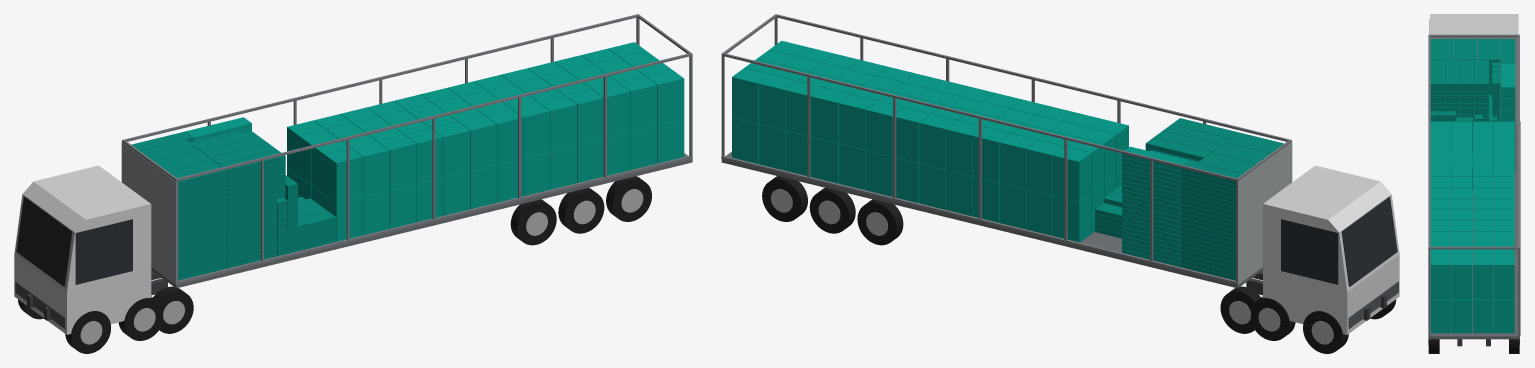
Rendered from carreta-FD04.glb.
The picture shows the model from 3 angles, left to right: view 1: azimuth 30°, elevation 25°; view 2: azimuth 150°, elevation 25°; view 3: azimuth 270°, elevation 25°; orthographic projection. The views are drawn at different scales.
Parts seen in each view (by area): view 1: cabine, frente, janela, part27, part19, piso, part18, part20, part268, part284, part364, part356 (+41 smaller); view 2: cabine, frente, janela, part27, piso, part21, part20, part18, part271, part267, part359, part287 (+41 smaller); view 3: cabine, piso, part364, part365, part366, part367, part361, part360, part362, part363, part18, frente (+71 smaller).
Boxes of the visible parts, box(x1,y1,x2,y2) form: cabine: box(14, 165, 151, 334); frente: box(121, 142, 176, 284); janela: box(75, 219, 132, 284); part27: box(16, 196, 72, 286); part19: box(176, 156, 691, 284); piso: box(151, 153, 692, 288); part18: box(175, 53, 692, 181); part20: box(122, 14, 639, 142); part268: box(324, 148, 362, 203); part284: box(378, 135, 416, 190); part364: box(646, 69, 684, 125); part356: box(619, 76, 657, 131); cabine: box(1263, 165, 1399, 334); frente: box(1238, 142, 1292, 284); janela: box(1281, 219, 1338, 284); part27: box(1341, 196, 1397, 286); piso: box(721, 151, 1262, 288); part21: box(721, 156, 1237, 284); part20: box(721, 53, 1238, 181); part18: box(775, 14, 1290, 141); part271: box(1053, 147, 1091, 202); part267: box(1053, 193, 1091, 242); part359: box(758, 74, 797, 130); part287: box(999, 133, 1037, 189); cabine: box(1430, 14, 1518, 34); piso: box(1428, 123, 1519, 339); part364: box(1430, 254, 1451, 298); part365: box(1451, 254, 1472, 298); part366: box(1473, 254, 1493, 298); part367: box(1494, 254, 1514, 298); part361: box(1451, 299, 1472, 333); part360: box(1430, 299, 1451, 333); part362: box(1473, 299, 1493, 333); part363: box(1494, 299, 1514, 333); part18: box(1428, 34, 1430, 248); frente: box(1430, 37, 1517, 123).
Bounding box in the file's own units: 17.14 × 3.99 × 2.58.
